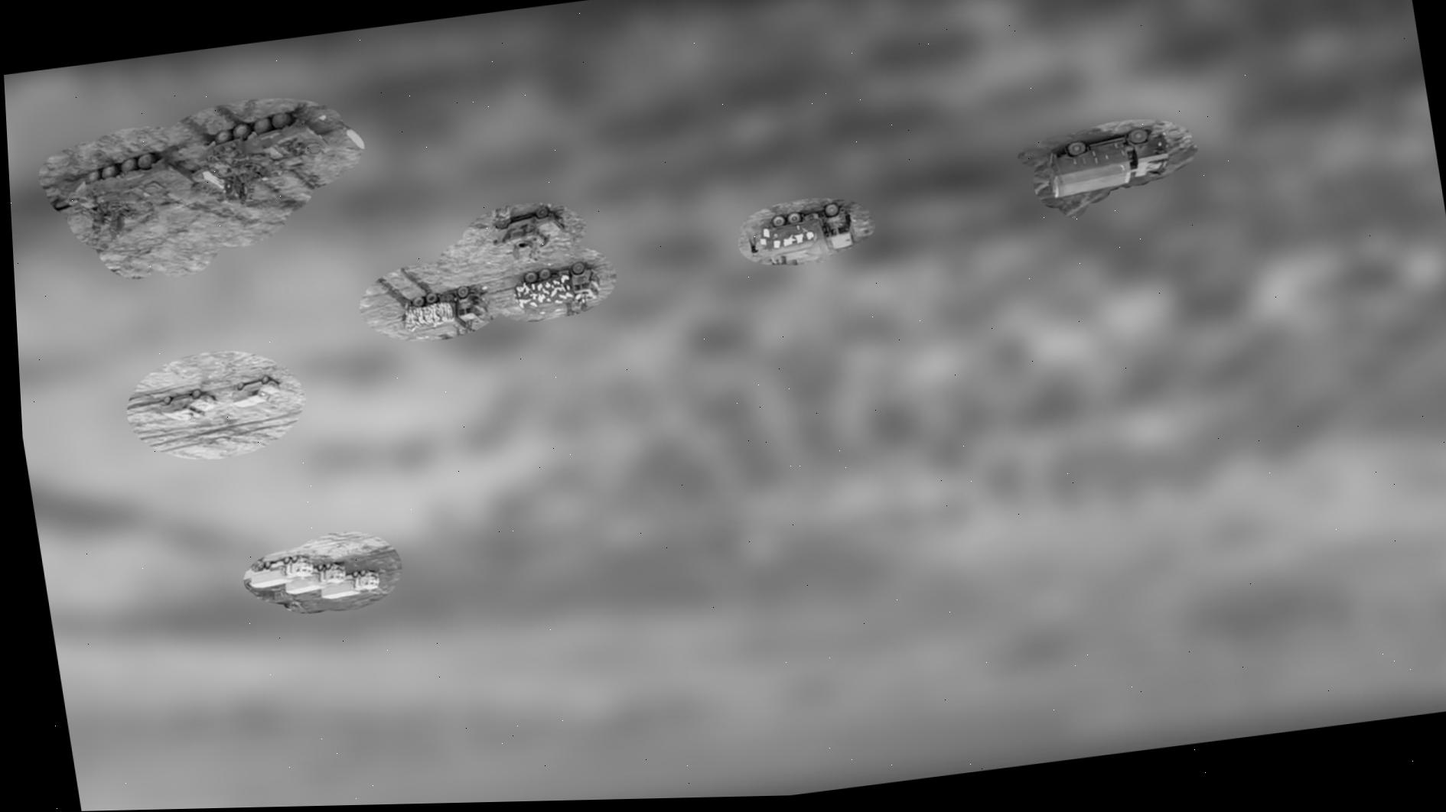armored_car: (191, 105, 340, 194), (53, 145, 198, 226), (488, 202, 570, 256), (156, 386, 220, 424), (228, 370, 284, 409)
truck: (1037, 118, 1179, 199), (752, 199, 864, 261), (395, 281, 494, 341), (509, 258, 607, 315), (245, 551, 315, 588)
